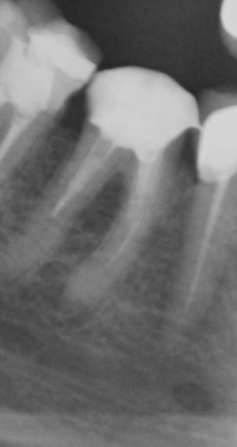fracture: (102, 220, 142, 270)
